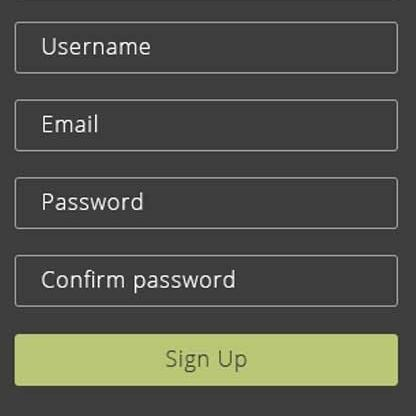button: (10, 331, 402, 391)
field: (11, 18, 401, 76), (10, 97, 403, 154), (11, 252, 402, 309), (13, 175, 400, 232)
